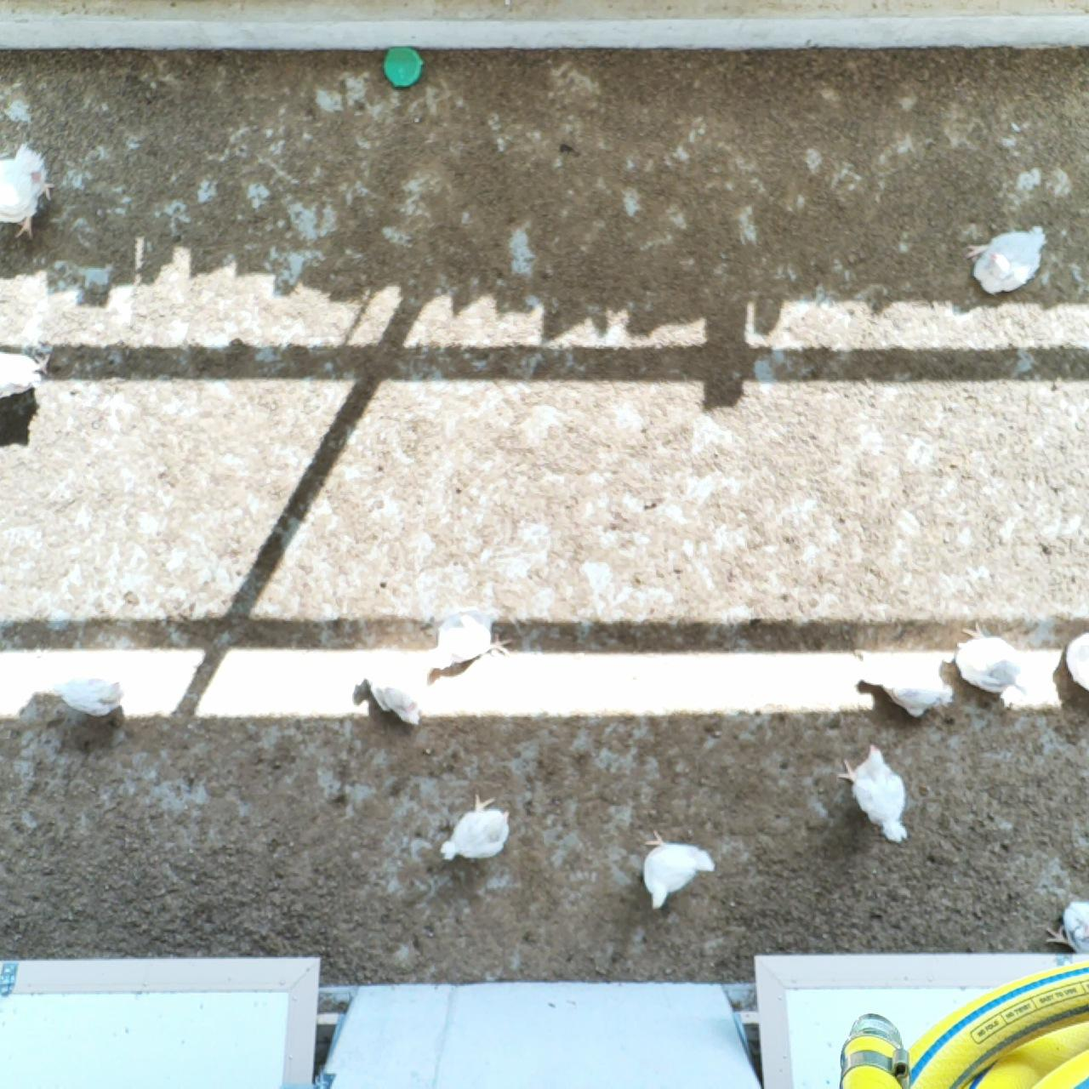chicken: (835, 741, 912, 849), (947, 618, 1043, 700), (635, 825, 719, 915), (852, 652, 960, 719), (962, 220, 1050, 299), (428, 601, 517, 677), (355, 647, 430, 732), (0, 137, 57, 244), (433, 790, 515, 864), (43, 668, 130, 718), (0, 343, 53, 404), (1042, 894, 1089, 956), (1063, 628, 1089, 695)
